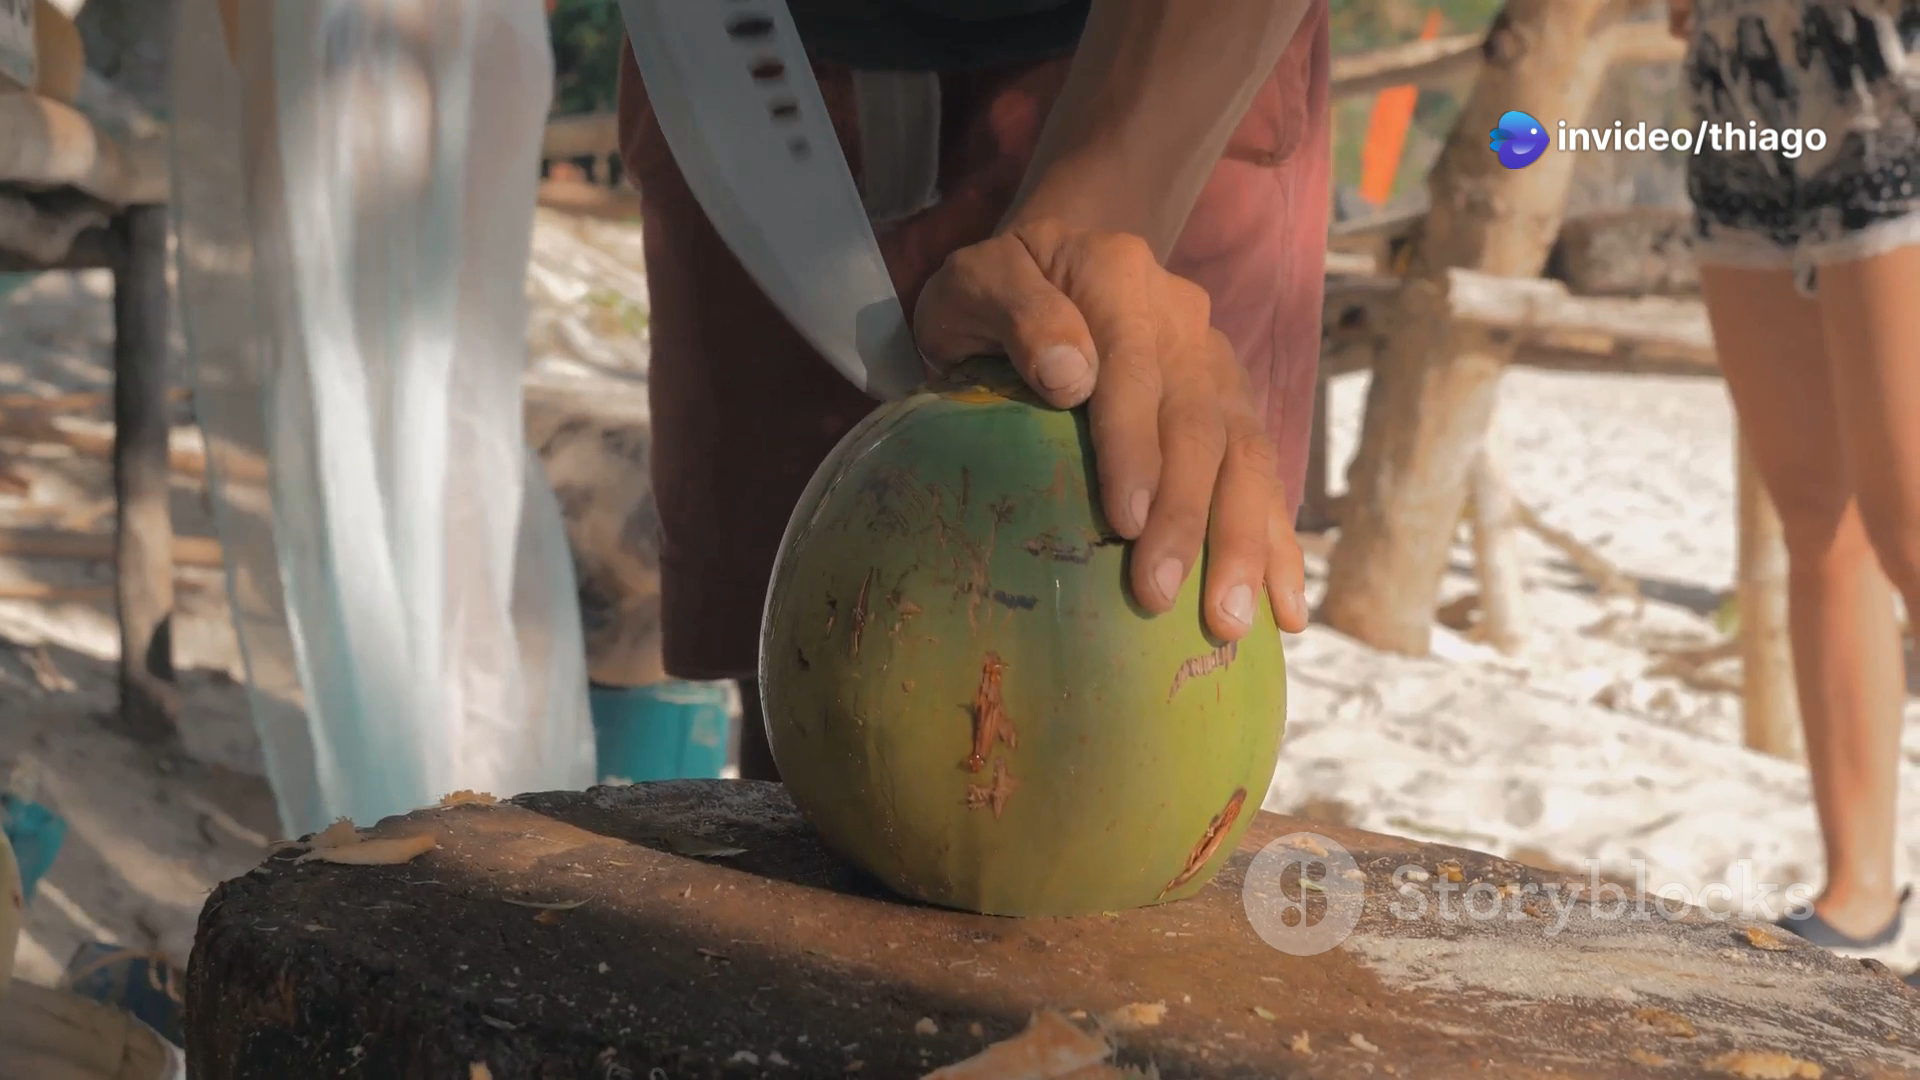cortante: (618, 0, 935, 409)
